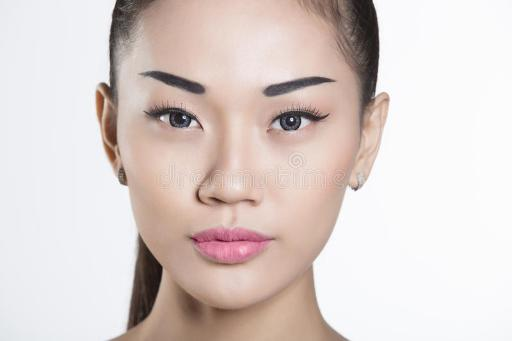left_eye: (267, 113, 329, 138)
left_lip_corner: (267, 235, 281, 246)
right_eye: (149, 111, 206, 134)
right_lip_corner: (186, 233, 199, 246)
